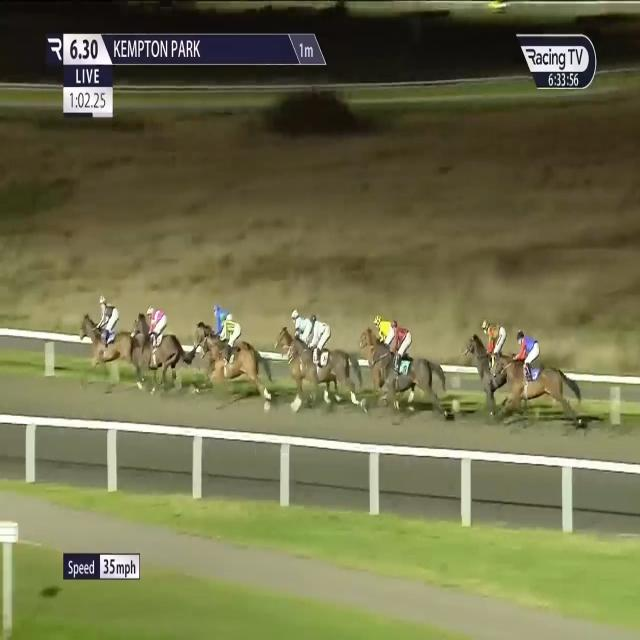horses-racing: (499, 327, 586, 430), (203, 315, 272, 405), (292, 316, 357, 407), (386, 318, 440, 415), (470, 308, 516, 416), (81, 298, 140, 372), (129, 307, 188, 380), (273, 308, 322, 394), (357, 310, 398, 403), (193, 298, 240, 365)
